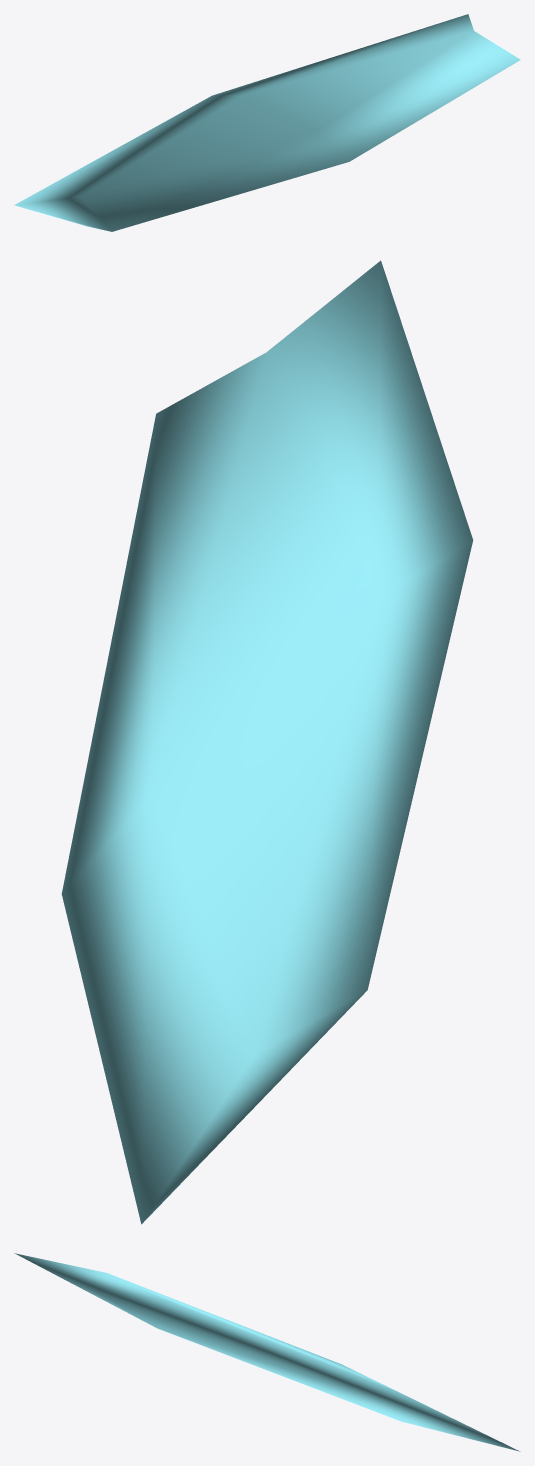
3 renders of one model, top to bottom at view 1: azimuth 30°, elevation 25°; view 2: azimuth 150°, elevation 25°; view 3: azimuth 270°, elevation 25°, orthographic. The views are drawn at different scales.
Visible parts, largest first — view 1: CH_F; view 2: CH_F; view 3: CH_F.
Part boxes in pixels (<box>): CH_F: <box>14,14,520,231</box>; CH_F: <box>61,260,473,1224</box>; CH_F: <box>14,1253,520,1451</box>.
Bounding box in the file's own units: 2.03 × 2.7 × 4.71.
